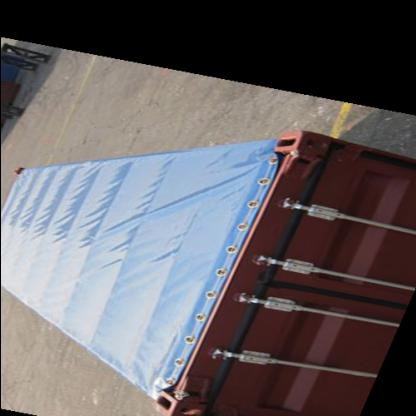Damage: (284, 133, 356, 179), (167, 380, 209, 416), (241, 265, 276, 294)
